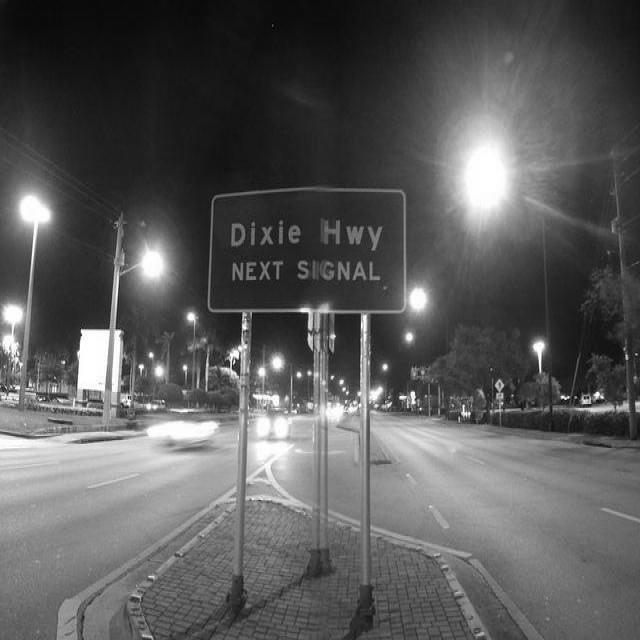vehicle: (144, 420, 218, 444), (257, 408, 292, 440), (326, 402, 345, 425), (36, 395, 59, 405), (147, 400, 166, 412), (120, 395, 132, 409), (580, 392, 592, 404), (560, 391, 570, 405)
